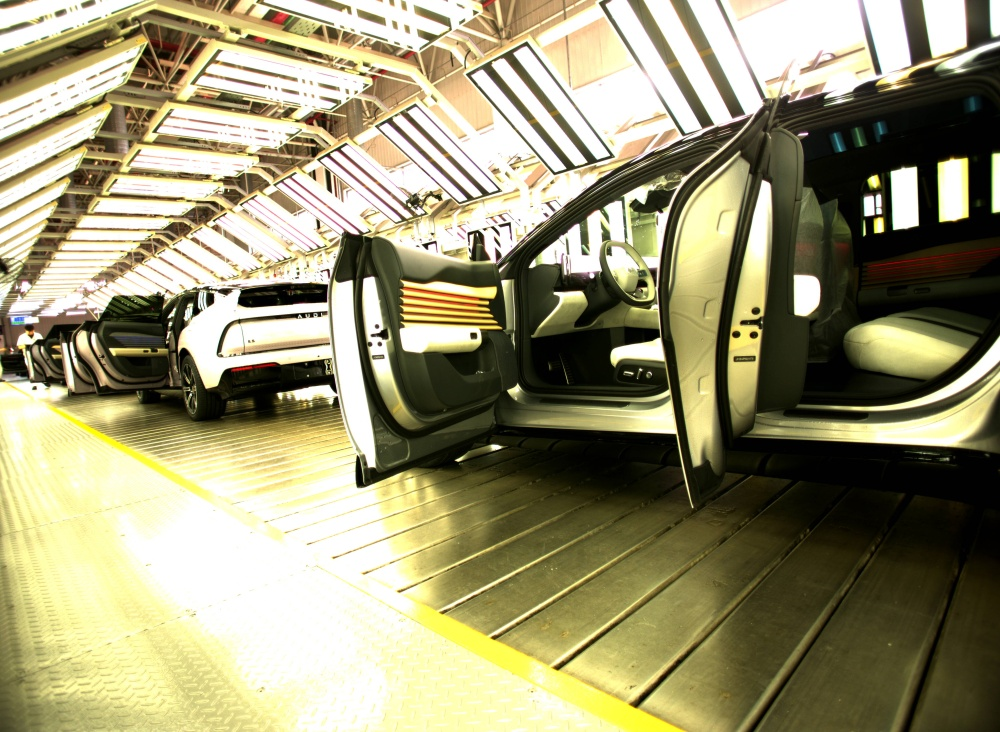armrest_color: (397, 325, 484, 355)
panel_color: (398, 274, 504, 331)
